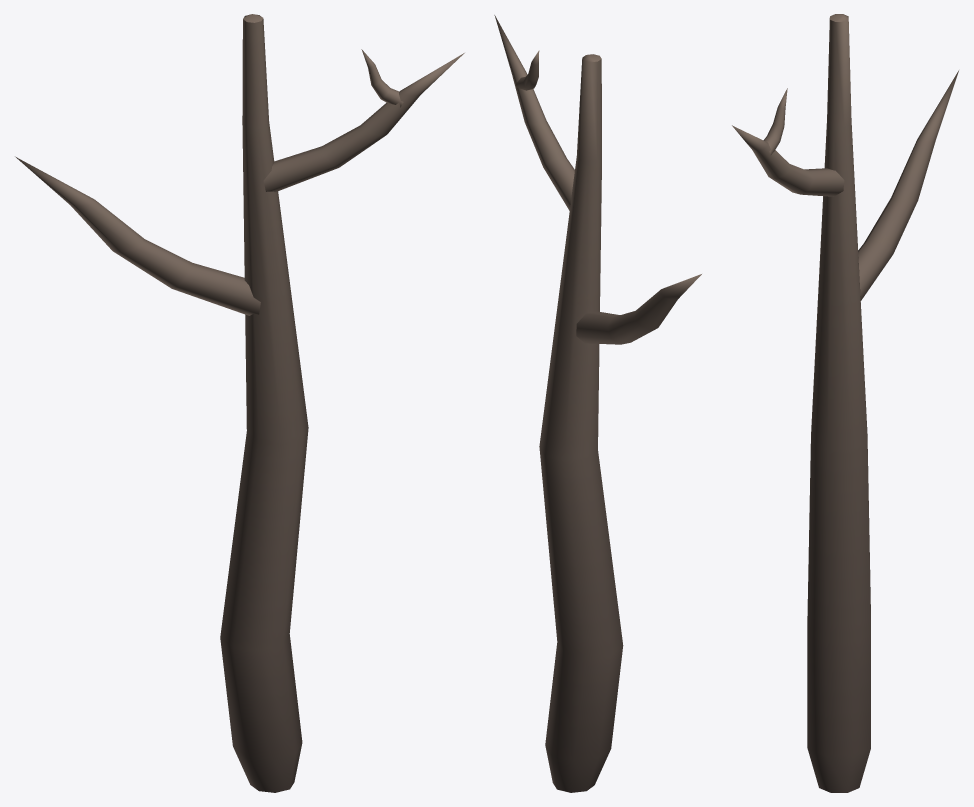
The model's file is tree_dead_large.obj.
The picture shows the model from 3 angles, left to right: view 1: azimuth 30°, elevation 25°; view 2: azimuth 150°, elevation 25°; view 3: azimuth 270°, elevation 25°; orthographic projection. The views are drawn at different scales.
Visible parts, largest first — view 1: tree_dead_large_Cylinder.088; view 2: tree_dead_large_Cylinder.088; view 3: tree_dead_large_Cylinder.088.
Part boxes in pixels (x1,y1,x2,y2): tree_dead_large_Cylinder.088: (15,14,464,792); tree_dead_large_Cylinder.088: (494,15,701,792); tree_dead_large_Cylinder.088: (732,14,958,792).
Size of the model in its own units: 2.3 by 5.07 by 1.38.
1 material, 1 textured.
